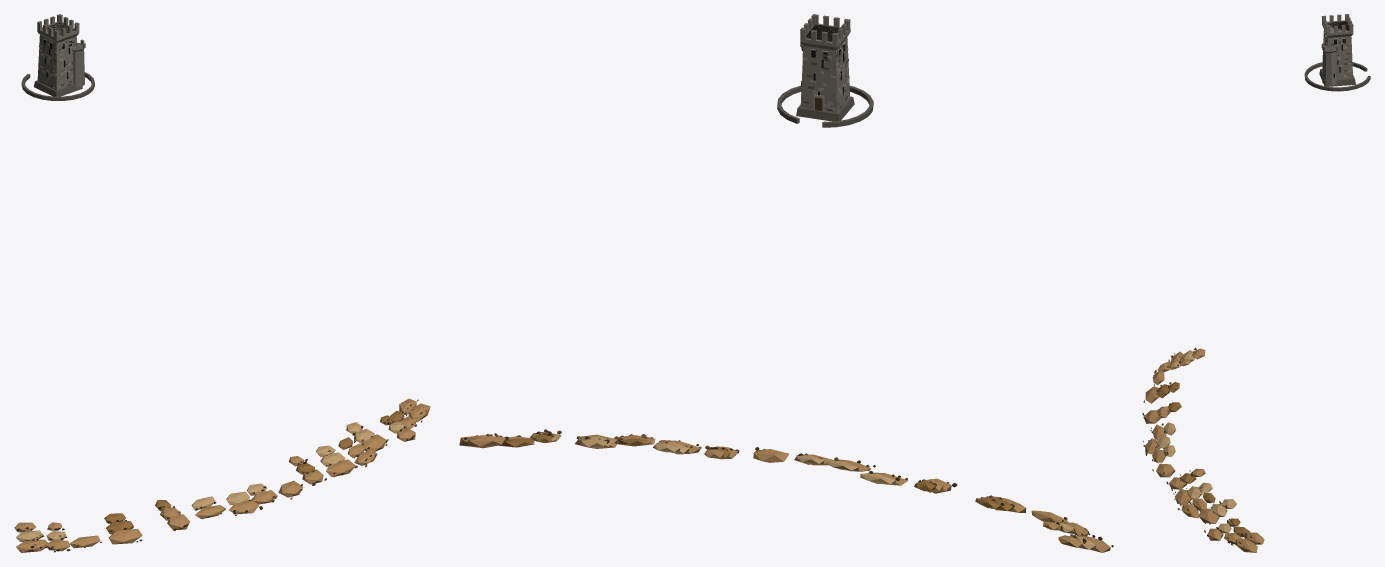
The model's file is chunk_0_6.glb.
3 views of the same model, side by side, from view 1: azimuth 30°, elevation 25°; view 2: azimuth 150°, elevation 25°; view 3: azimuth 270°, elevation 25° (orthographic). The views are drawn at different scales.
Parts seen in each view (by area): view 1: chunk_0_6; view 2: chunk_0_6; view 3: chunk_0_6.
Boxes of the visible parts, left/top/right/bottom form: chunk_0_6: left=14, top=14, right=430, bottom=552; chunk_0_6: left=459, top=14, right=1113, bottom=552; chunk_0_6: left=1142, top=14, right=1370, bottom=552.
Bounding box in the file's own units: 114 × 105 × 54.97.
